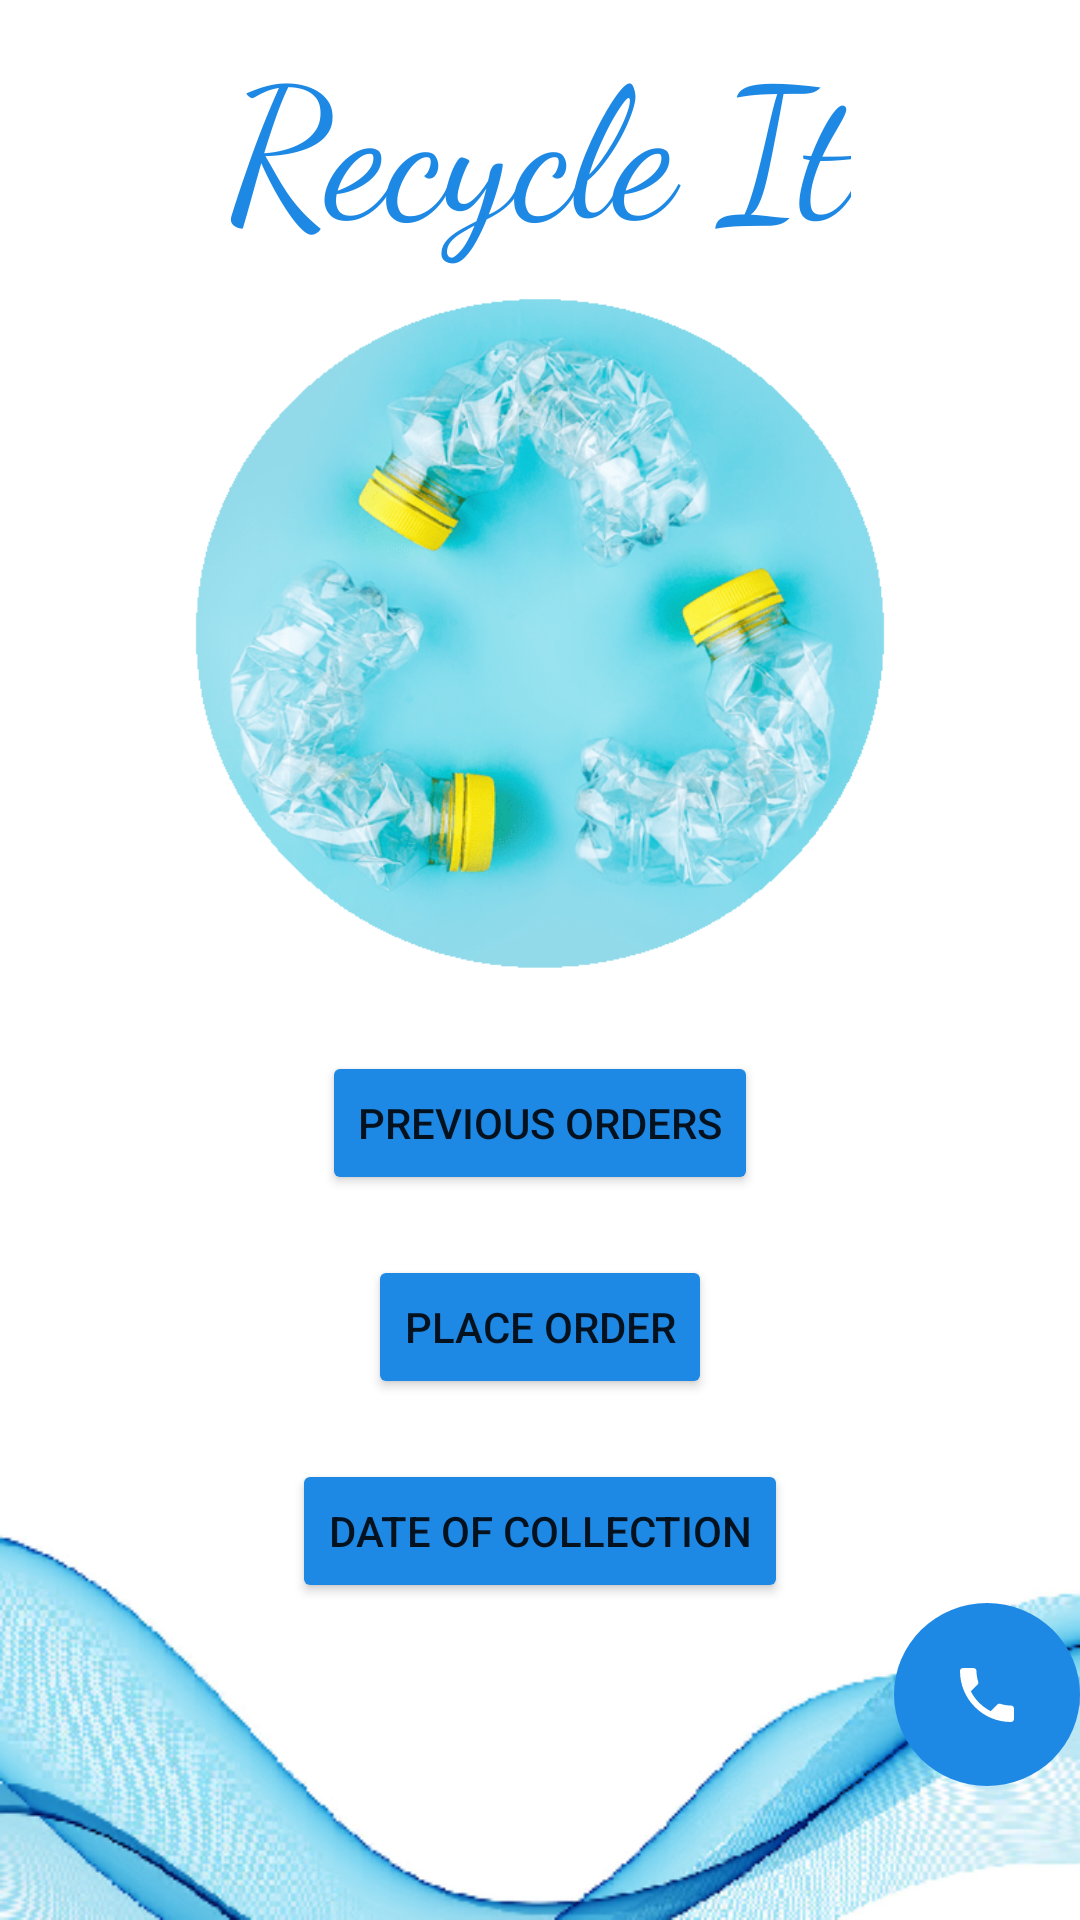

Icons on this 1080×1920 Android screen, each with the point to tap as (x,y):
local phone: (987,1694)
